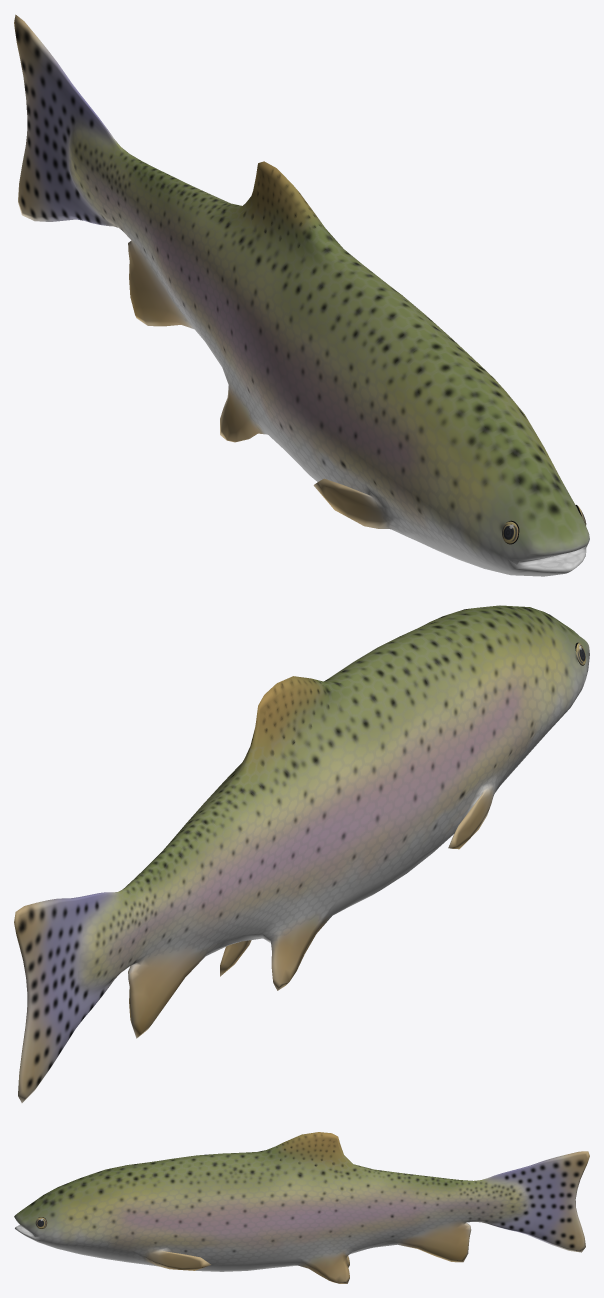
3 renders of one model, top to bottom at view 1: azimuth 30°, elevation 25°; view 2: azimuth 150°, elevation 25°; view 3: azimuth 270°, elevation 25°, orthographic. The views are drawn at different scales.
Parts seen in each view (by area): view 1: Cat_bone; view 2: Cat_bone; view 3: Cat_bone.
Boxes of the visible parts, <box> form: Cat_bone: <box>14,14,589,576</box>; Cat_bone: <box>14,605,589,1102</box>; Cat_bone: <box>14,1132,589,1283</box>.
Size of the model in its own units: 0.1481 by 0.2936 by 1.06.
Materials: 2 (2 with a texture image).
